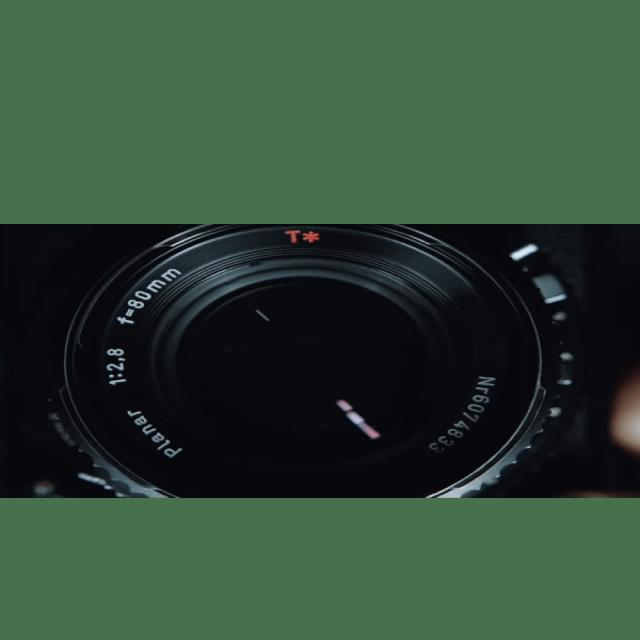Background Image: (2, 2, 637, 637)
Decorative Elements: (48, 222, 582, 498)
Testimonial Quotes: (101, 266, 187, 459)
Text Elements: (113, 266, 182, 326), (124, 408, 183, 459), (103, 346, 128, 387)
